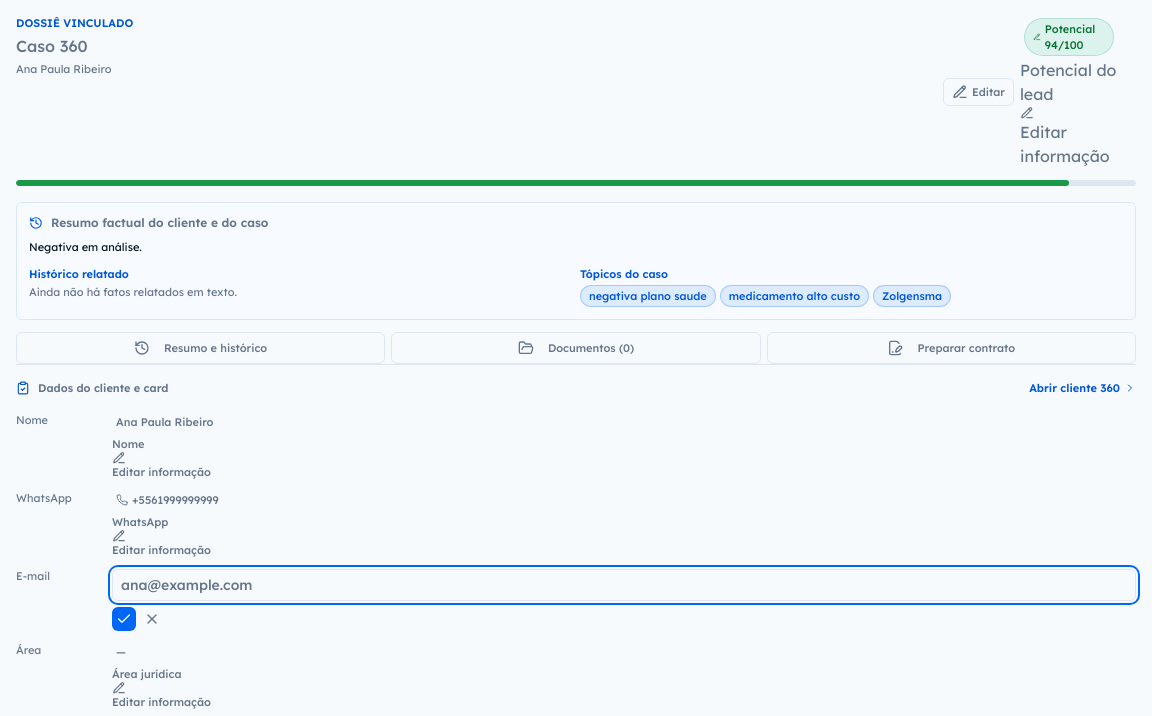
Test: Case 360 contextual editing › keeps the user draft open when the backend rejects a concurrent revision
Earlier steps of the test are not shown.
Replace the text in the field named "E-mail" with "novo@example.com". click: [624, 585]
box: [112,569,1136,601]
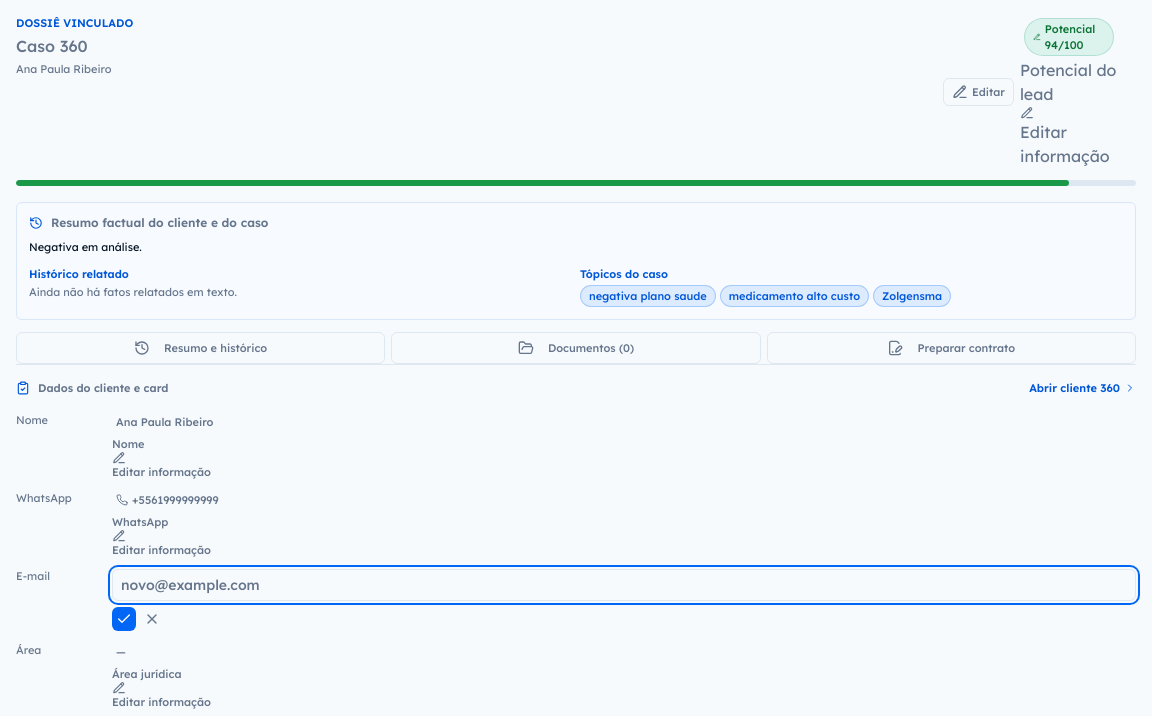
Click the button named "Salvar E-mail". click: [124, 619]
box: [112,607,136,631]
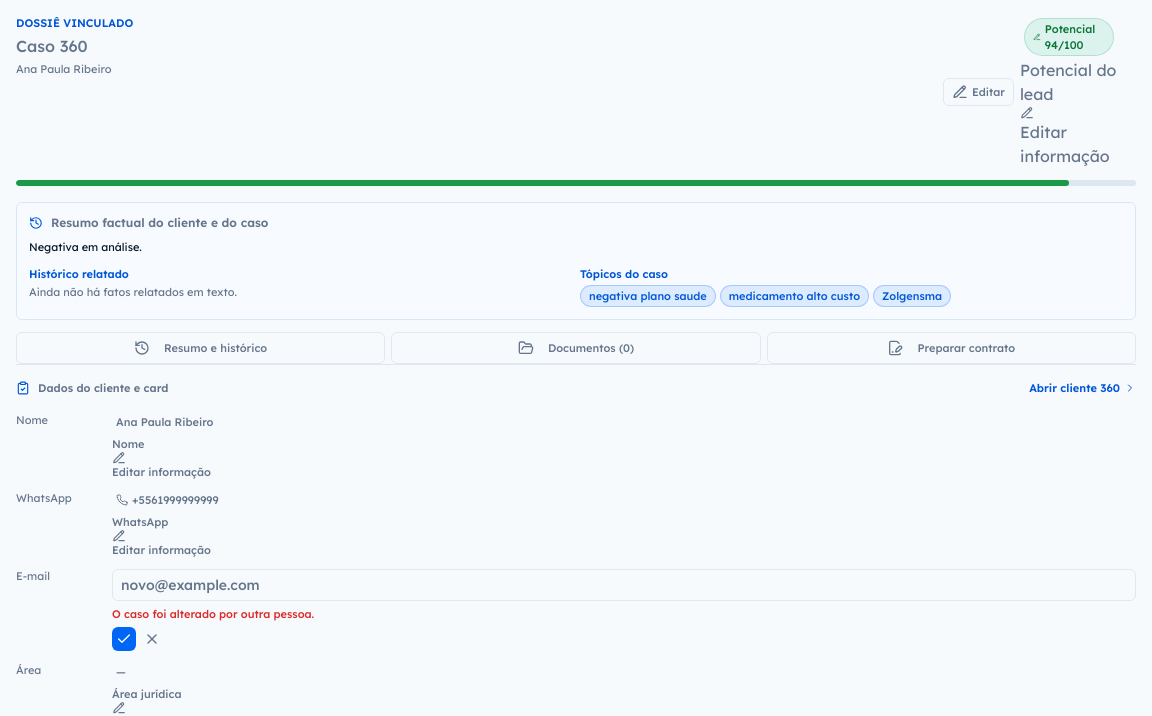
Expected: the button named "Salvar E-mail" is enabled, [112,627,136,651]
Expected: the text "O caso foi alterado por outra pessoa." is shown, [112,607,314,621]
Click the button named "Cancelar edição de E-mail". click: [152, 639]
box: [140,627,164,651]
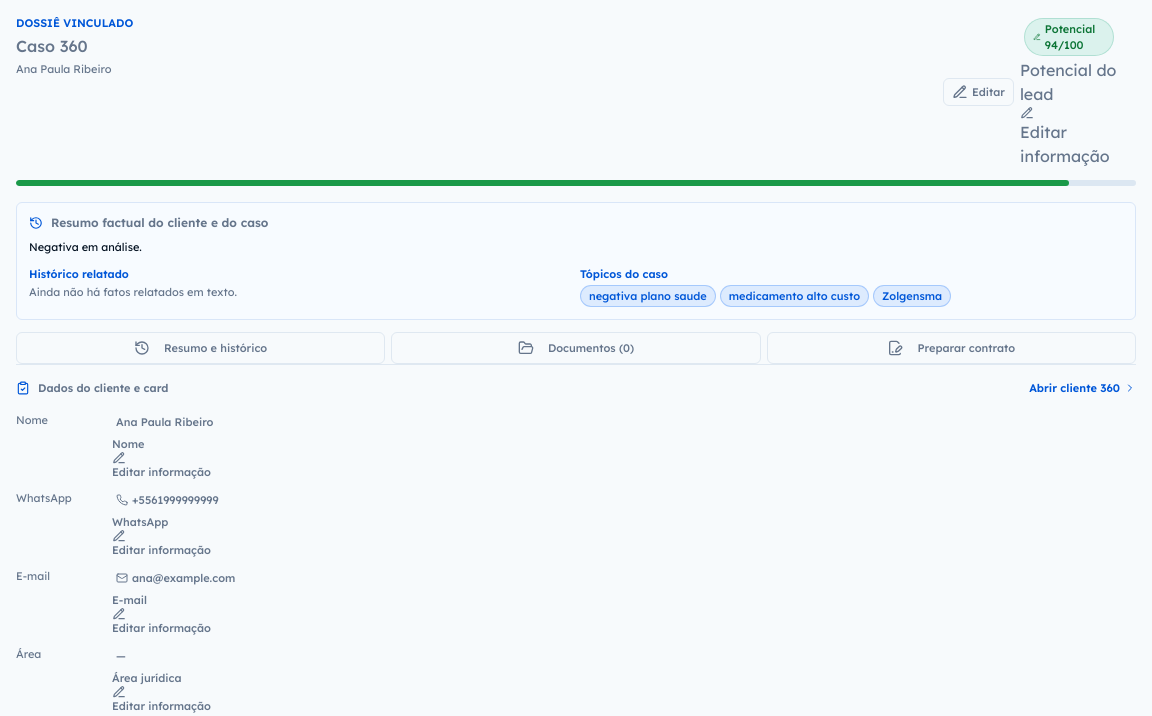
Expected: the text "ana@example.com" is shown, [116,571,235,585]
